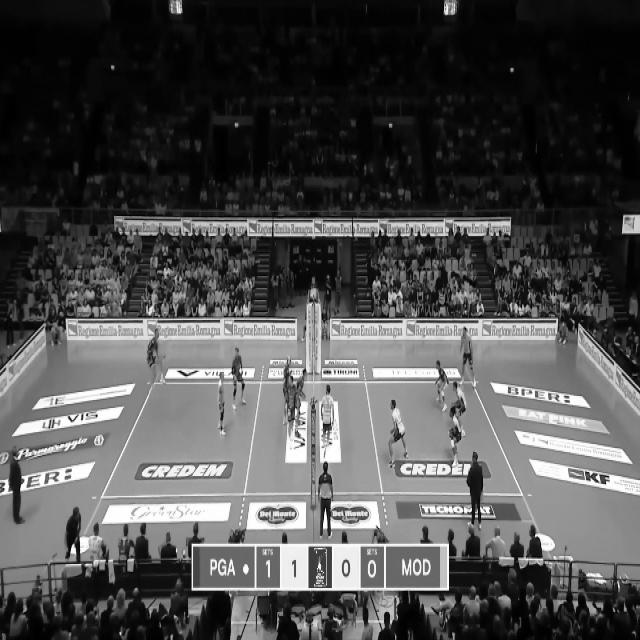volleyball court: (101, 378, 522, 498)
